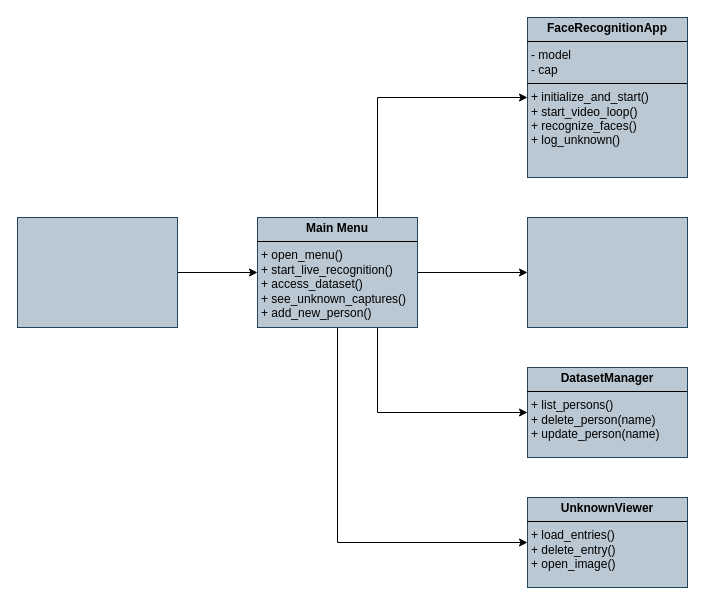
Image size: 705x605. Some labels were removed from this diagram. Here are the shapes that lost their labels. From the top down, the box of each, then its label:
(16, 216, 178, 328): Login - username: str - password: str + authenticate() + show_login_window()
(526, 216, 688, 328): FaceCaptureApp - name: str + start_capture() + capture_loop()
